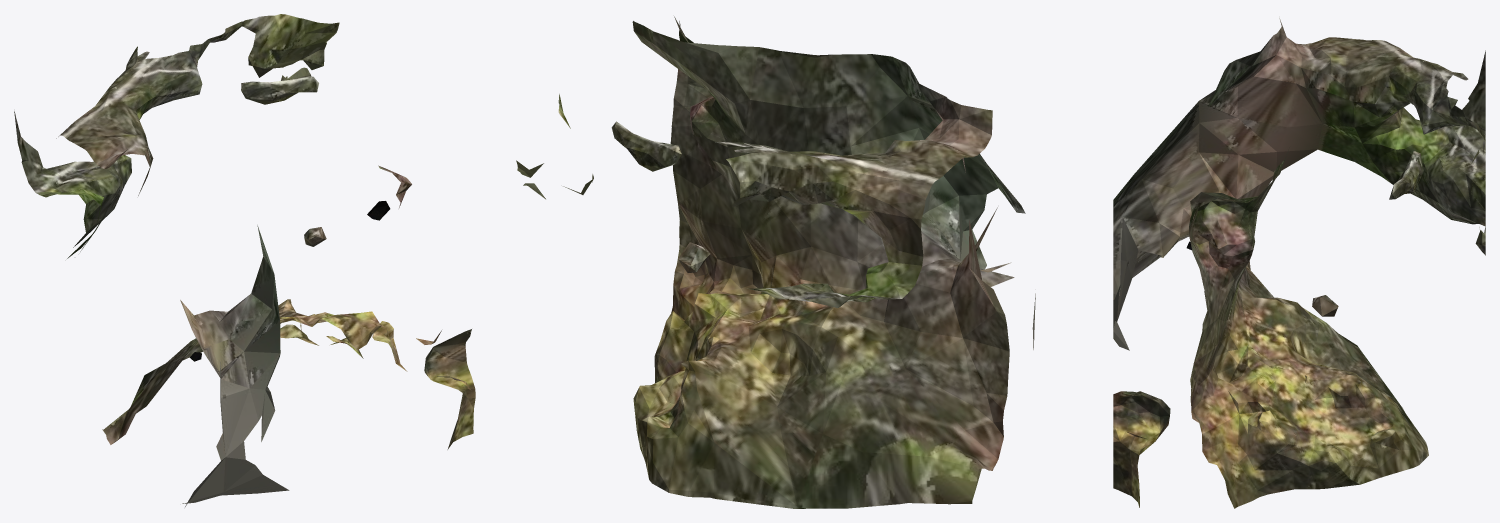
3 views of the same model, side by side, from view 1: azimuth 30°, elevation 25°; view 2: azimuth 150°, elevation 25°; view 3: azimuth 270°, elevation 25° (orthographic). The views are drawn at different scales.
Size of the model in its own units: 2.95 by 2.95 by 2.95.
Materials: 6 (6 with a texture image).
